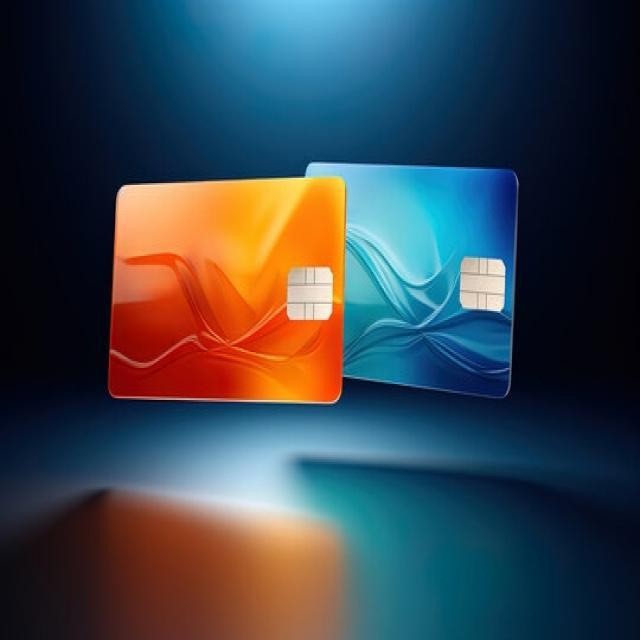payment_card: (106, 175, 346, 404), (304, 160, 519, 399)
